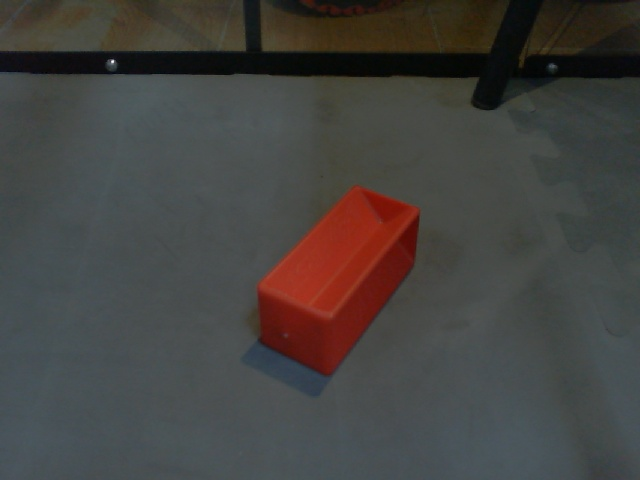RedSample: (253, 183, 420, 375)
